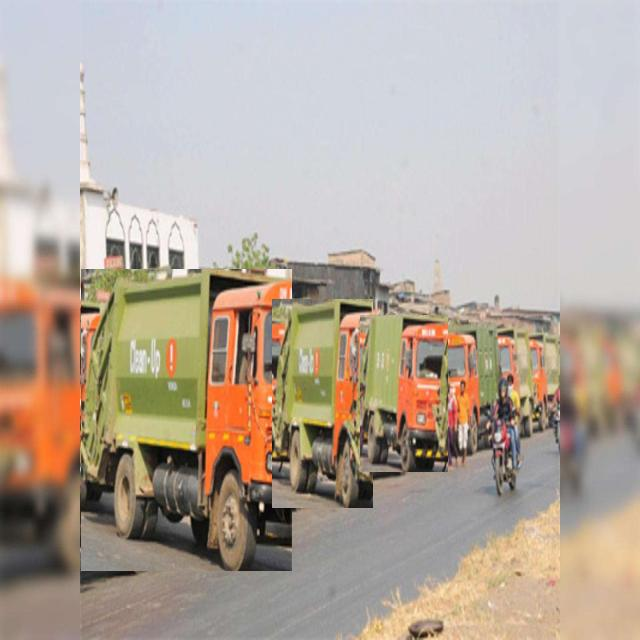motorcycle: (486, 373, 521, 496)
truck: (81, 269, 291, 571), (272, 300, 372, 508), (360, 316, 448, 472), (442, 324, 500, 453)
